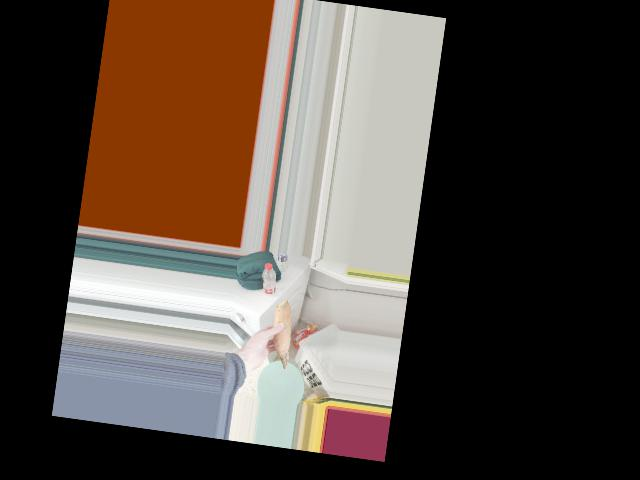sweet_potato: (267, 303, 295, 371)
